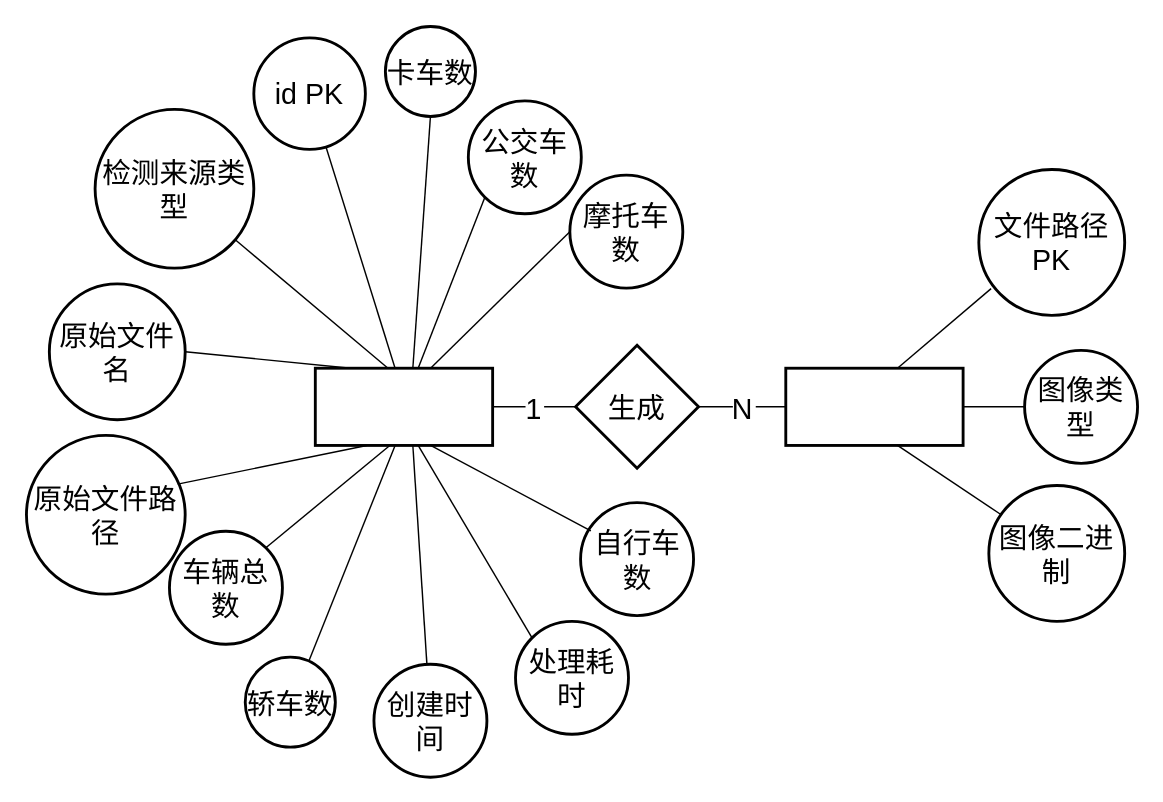
Image size: 1163x802. Some labels were removed from this diagram. The shapes that lost their labels are listed below. From the top down, each one's centre as x and y in pixels, then its label:
At (403,406): "检测记录".
At (874,406): "图像文件".
